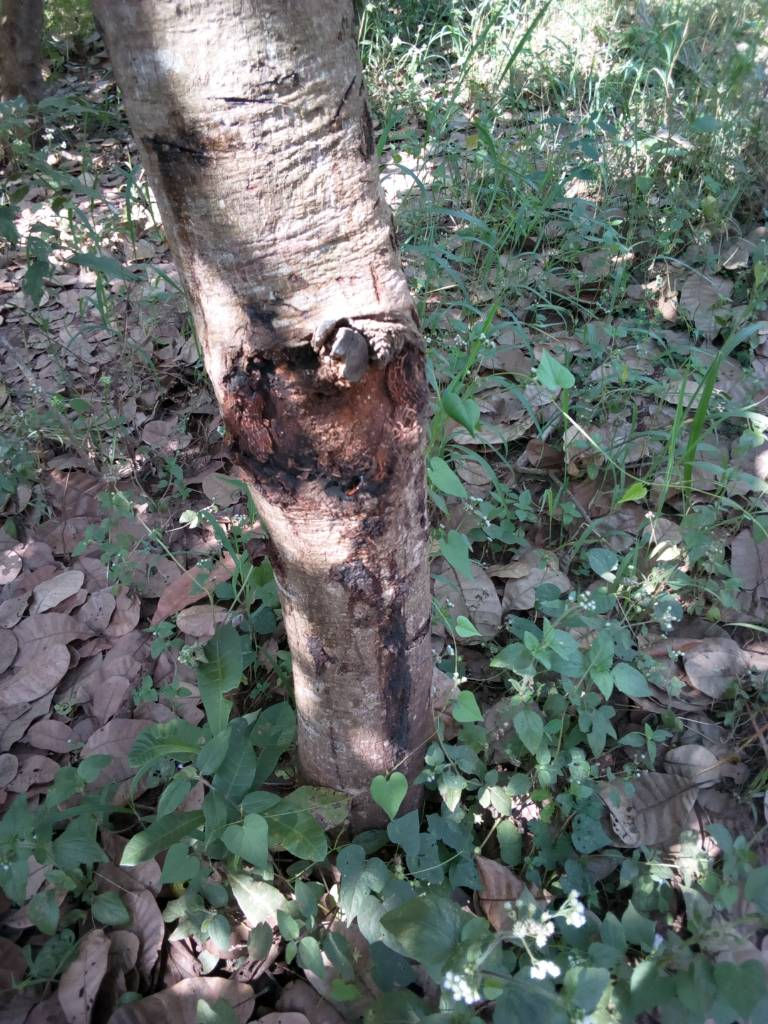Termites: (232, 321, 458, 714)
